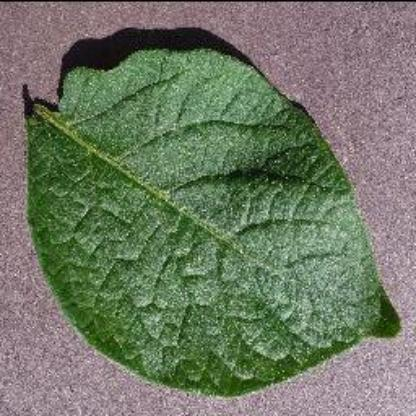Healthy-plant: (19, 35, 405, 398)
